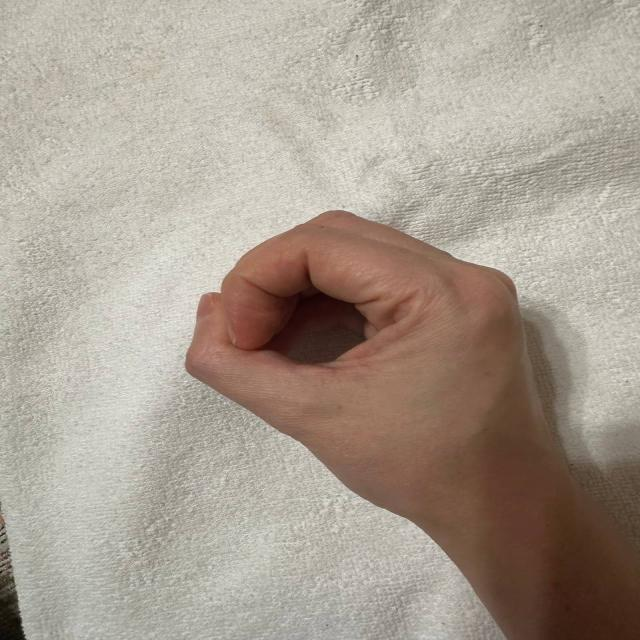e: (186, 225, 544, 470)
